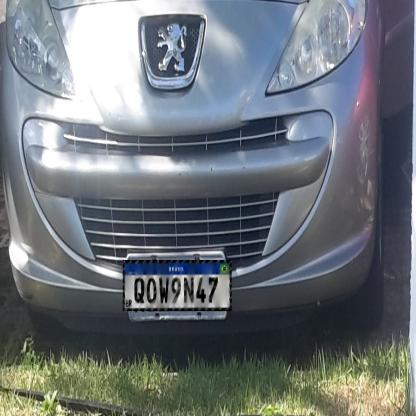PlacaM: (122, 260, 232, 311)
